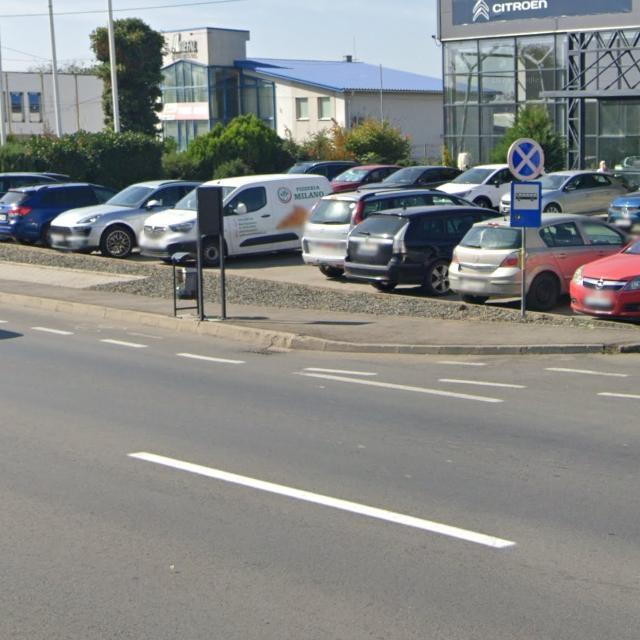forb_waiting: (508, 137, 545, 181)
